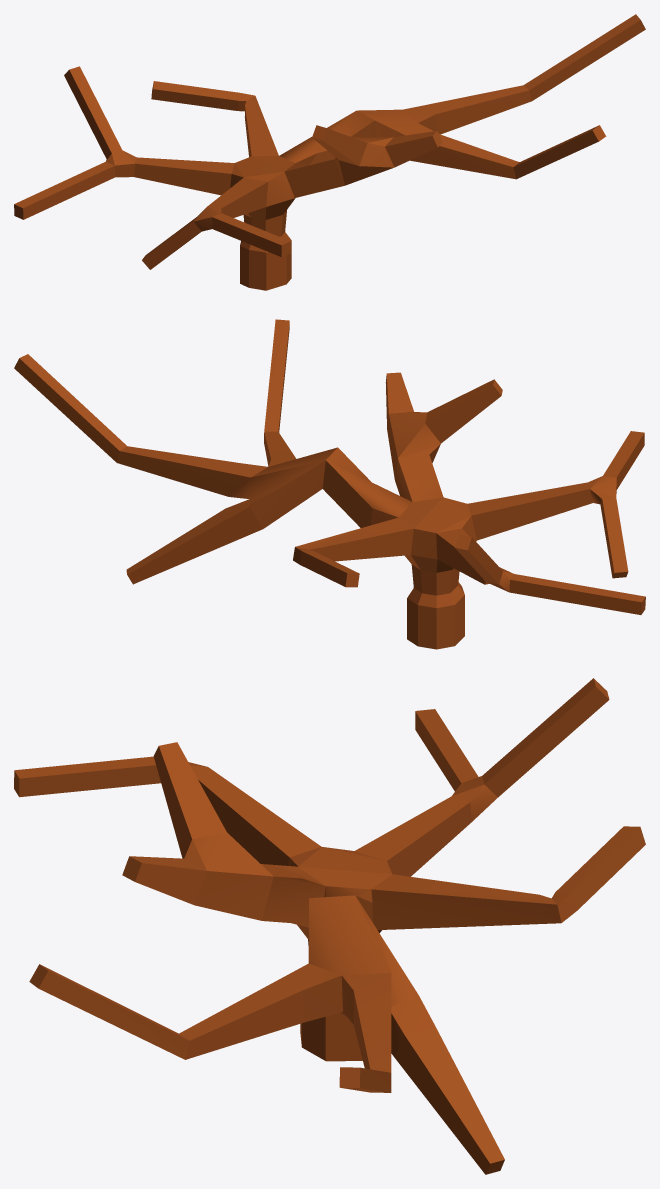
Rendered from Dead_Bush.fbx.
3 views of the same model, one above another, from view 1: azimuth 30°, elevation 25°; view 2: azimuth 150°, elevation 25°; view 3: azimuth 270°, elevation 25° (orthographic). The views are drawn at different scales.
Parts seen in each view (by area): view 1: Dead_Bush; view 2: Dead_Bush; view 3: Dead_Bush.
Boxes of the visible parts, bbox=[...] form: Dead_Bush: bbox=[14, 14, 645, 290]; Dead_Bush: bbox=[14, 319, 645, 649]; Dead_Bush: bbox=[14, 678, 645, 1174].
Bounding box in the file's own units: 167 × 51.67 × 97.3.
Materials: 1 (1 with a texture image).
